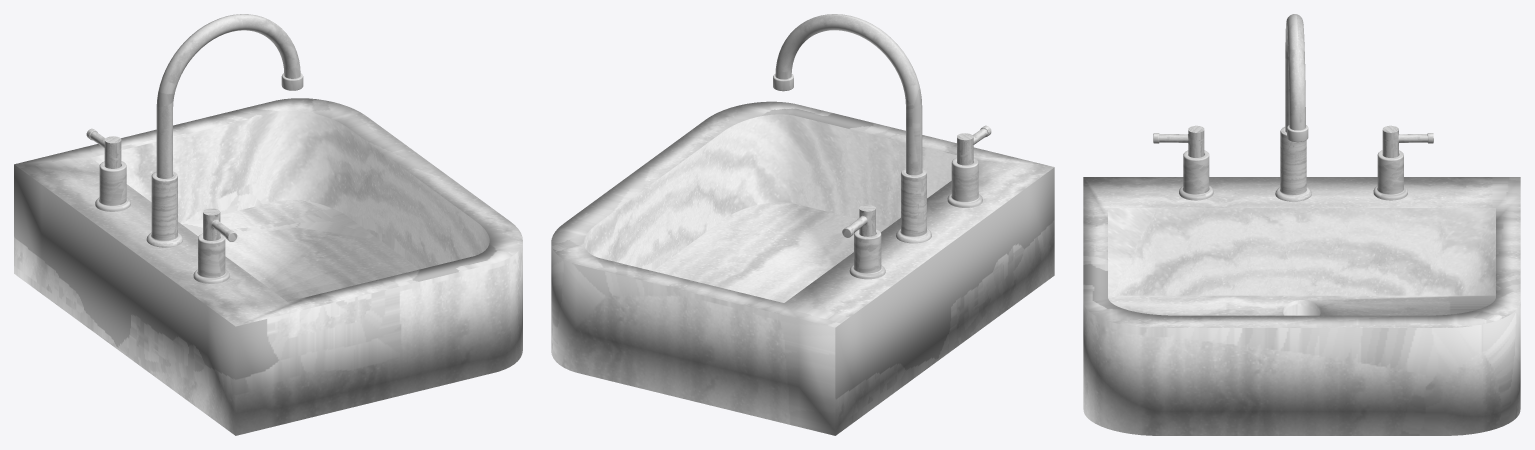
The model's file is Sink_mat.fbx.
3 views of the same model, side by side, from view 1: azimuth 30°, elevation 25°; view 2: azimuth 150°, elevation 25°; view 3: azimuth 270°, elevation 25° (orthographic).
Visible parts, largest first — view 1: Sink; view 2: Sink; view 3: Sink.
Part boxes in pixels (x1,y1,x2,y2): Sink: (14,14,522,435); Sink: (551,14,1054,435); Sink: (1083,14,1520,435).
Bounding box in the file's own units: 148 × 142 × 181.
